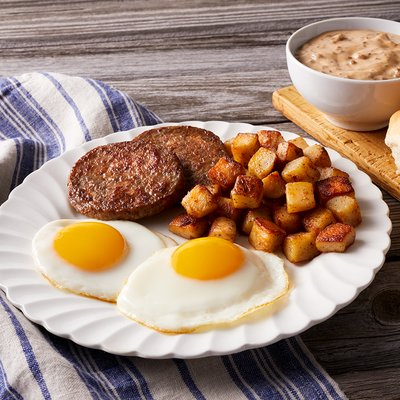sushi: (285, 17, 400, 130)
